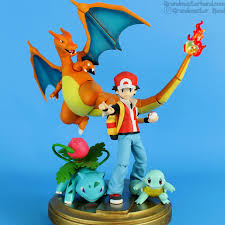charizard: (25, 1, 208, 138)
